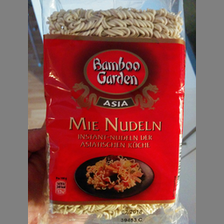pasta: (41, 1, 187, 224)
